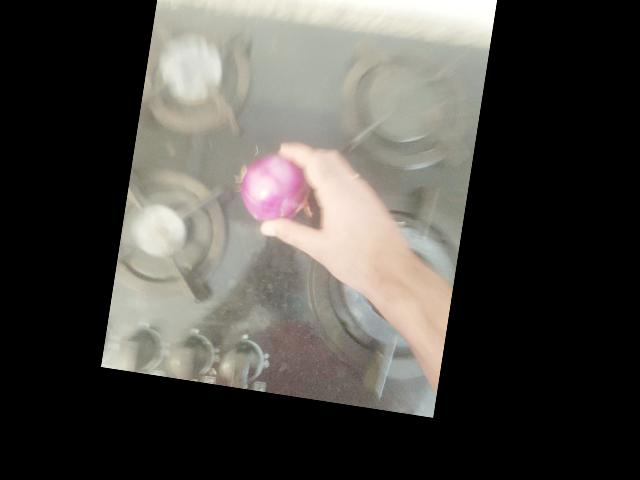onion: (207, 45, 275, 114)
